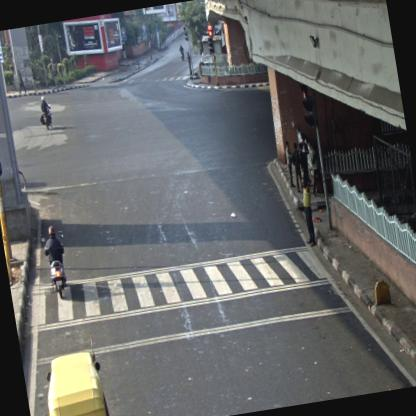motorcycle: (36, 218, 72, 304), (38, 95, 53, 130)
